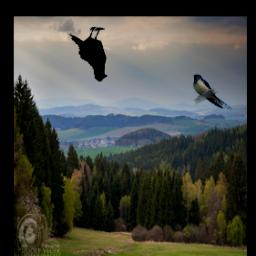Crow: (69, 26, 108, 81)
Swallow: (192, 74, 232, 110)
